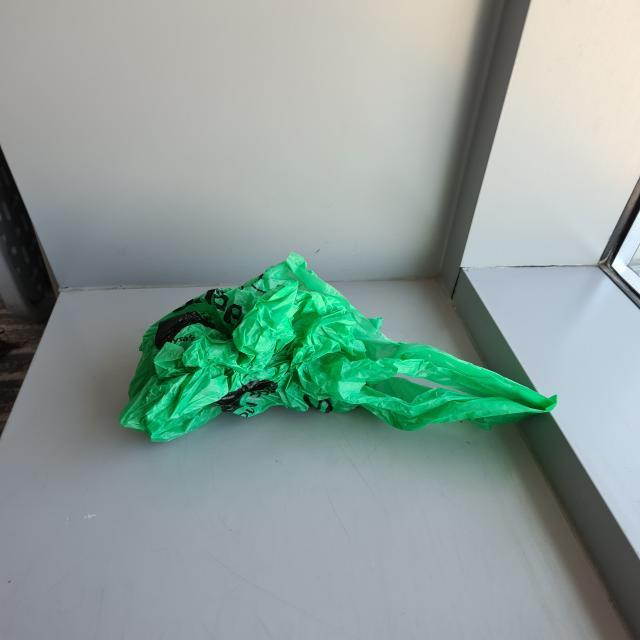plastic: (120, 252, 552, 438)
